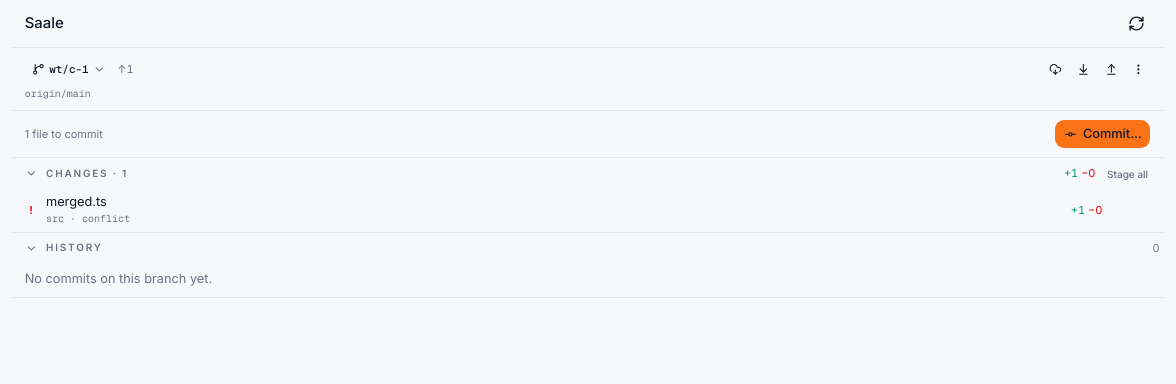
it: ChangesView: what is staged › says a conflicted file needs a decision instead of offering a diff alone
Click the button titled "src/merged.ts" at (76, 202), box 12,188 -> 1102,232
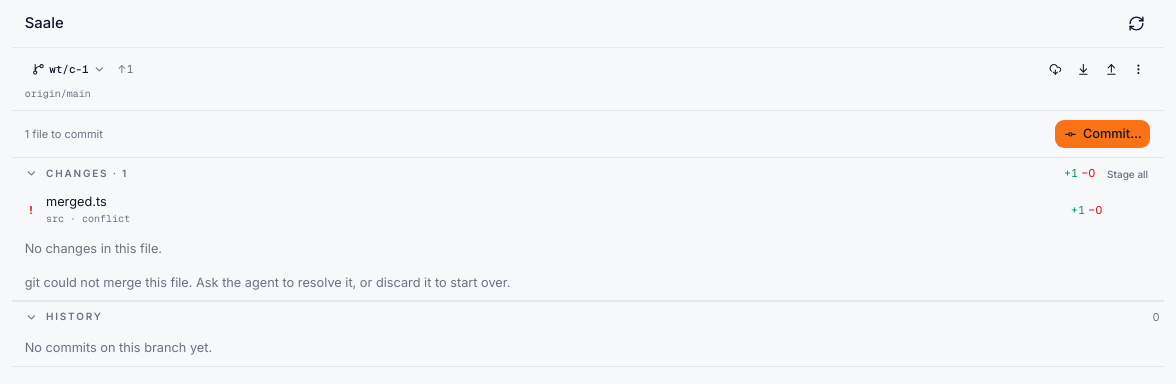
Expected: the text "git could not merge this file" is shown, 25,275 -> 510,290
